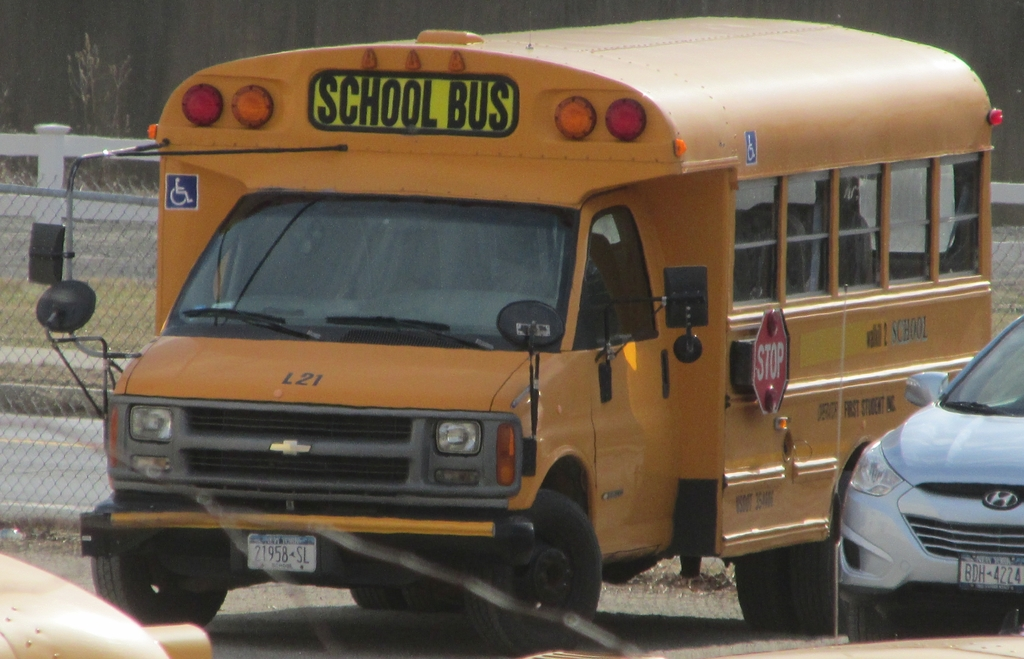Bus: (25, 16, 1002, 658)
